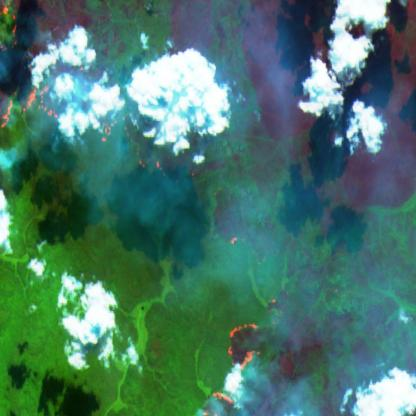fire: (0, 0, 168, 181), (197, 318, 262, 416)
